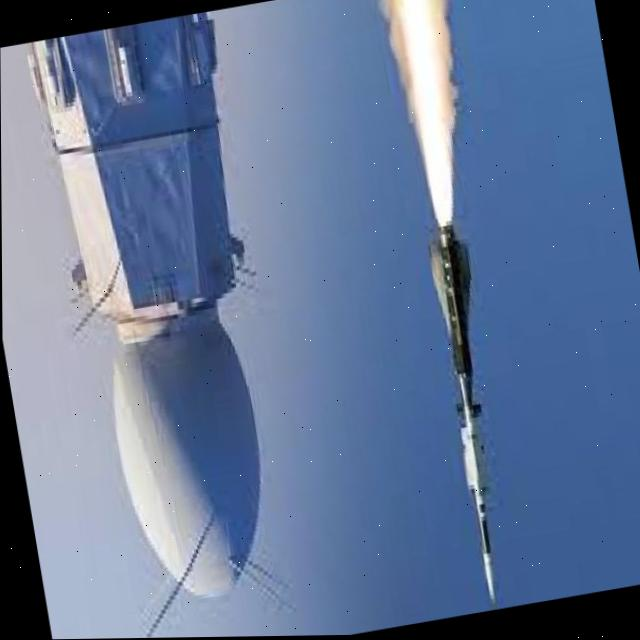missile: (414, 223, 534, 615)
